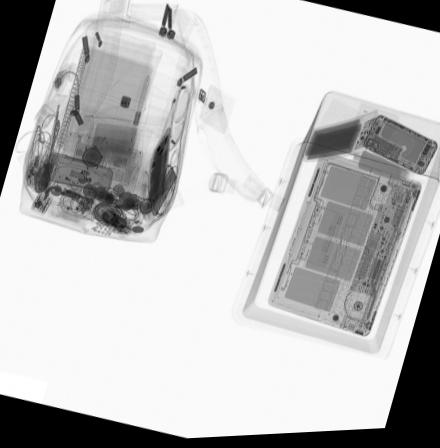Lighter: (61, 171, 87, 194)
